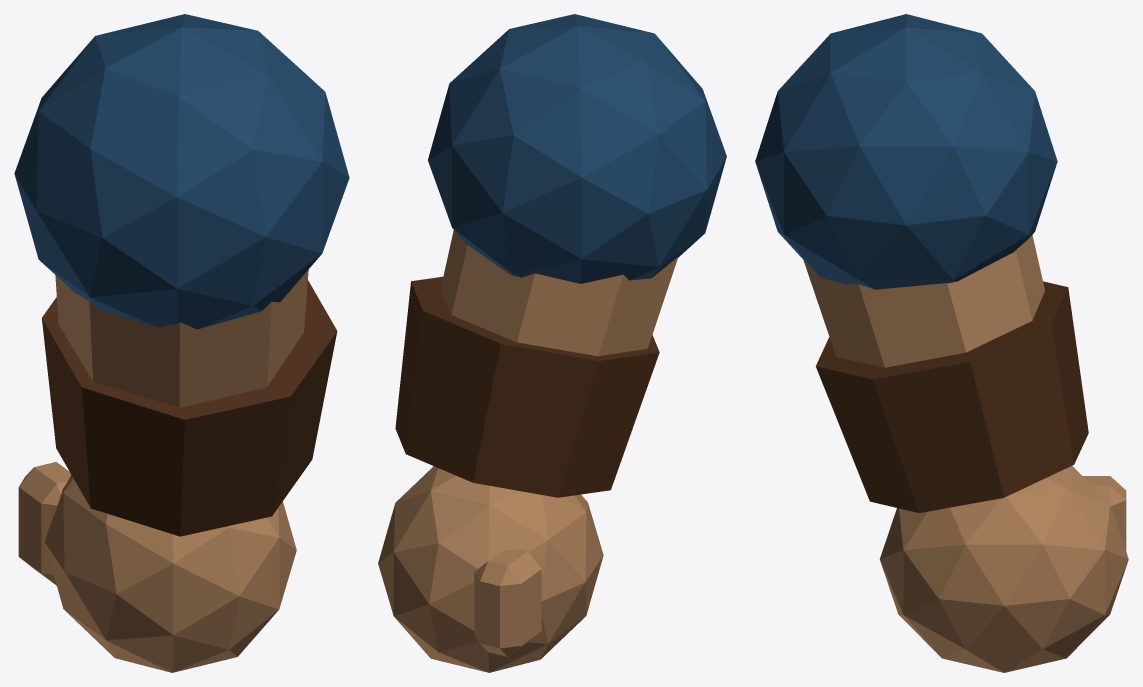
The model's file is ForearmRight.glb.
3 views of the same model, side by side, from view 1: azimuth 30°, elevation 25°; view 2: azimuth 150°, elevation 25°; view 3: azimuth 270°, elevation 25° (orthographic). The views are drawn at different scales.
Visible parts, largest first — view 1: Sculpture; view 2: Sculpture; view 3: Sculpture.
Boxes of the visible parts, bbox=[...] form: Sculpture: bbox=[14, 14, 349, 672]; Sculpture: bbox=[378, 14, 726, 672]; Sculpture: bbox=[755, 14, 1128, 672].
Size of the model in its own units: 0.1733 by 0.383 by 0.21.
